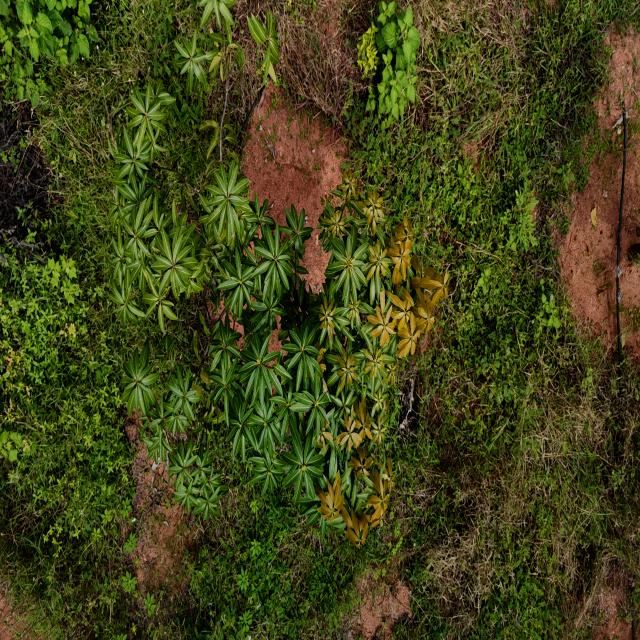mangoTree: (105, 0, 451, 554)
notMangoTree: (0, 0, 101, 111)
